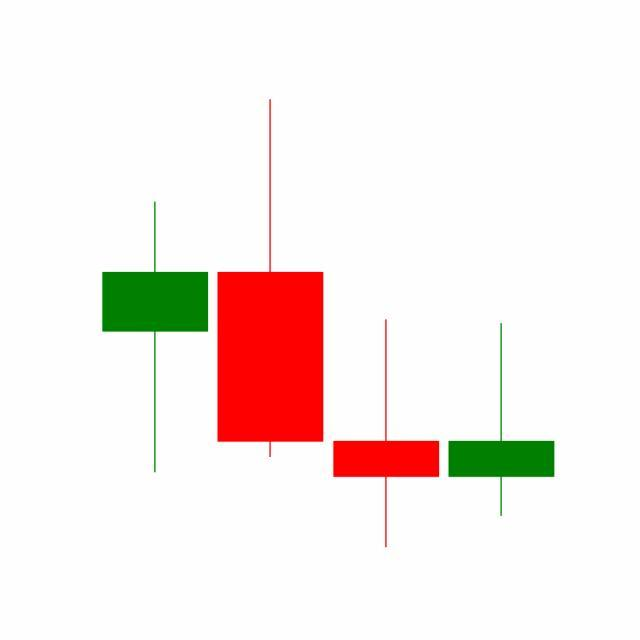Spinning Top: (329, 318, 445, 552)
